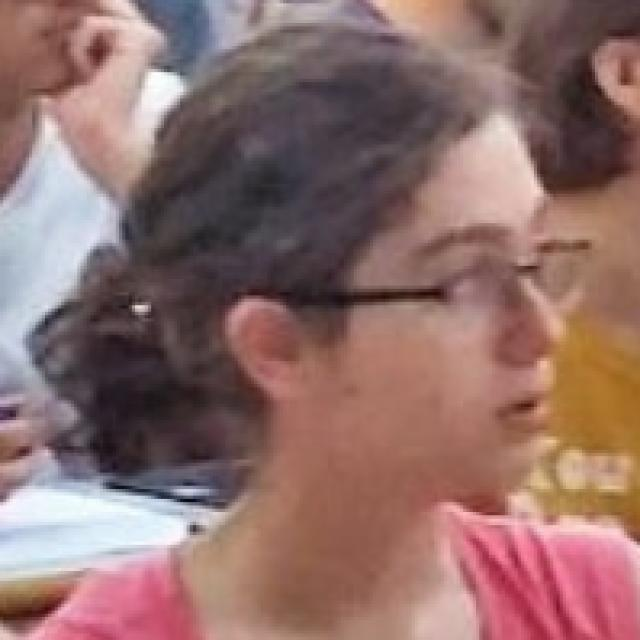Attentive: (270, 98, 572, 501)
